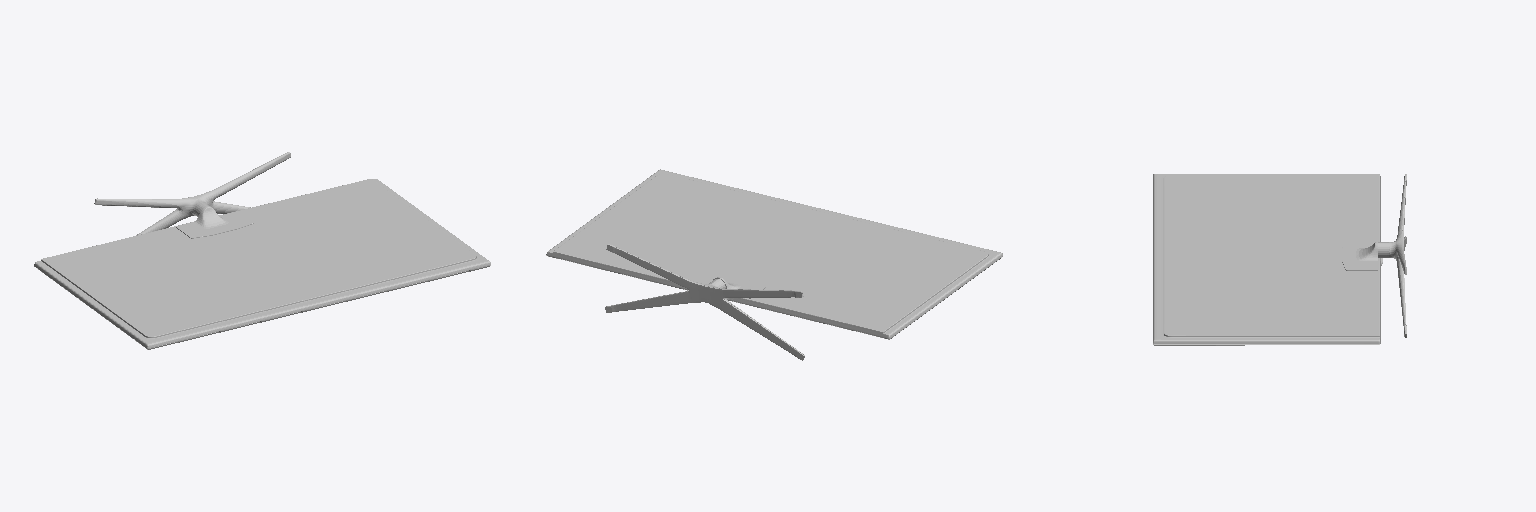
Rendered from Samsung LED TV.obj.
3 renders of one model, left to right at view 1: azimuth 30°, elevation 25°; view 2: azimuth 150°, elevation 25°; view 3: azimuth 270°, elevation 25°, orthographic.
Parts seen in each view (by area): view 1: Samsung_LED_TV; view 2: Samsung_LED_TV; view 3: Samsung_LED_TV.
Part boxes in pixels (x1,y1,x2,y2): Samsung_LED_TV: (34, 152, 490, 349); Samsung_LED_TV: (546, 169, 1002, 360); Samsung_LED_TV: (1153, 174, 1406, 345).
Size of the model in its own units: 0.9858 by 0.1893 by 0.6314.